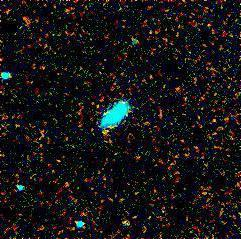star: (89, 115, 119, 145)
